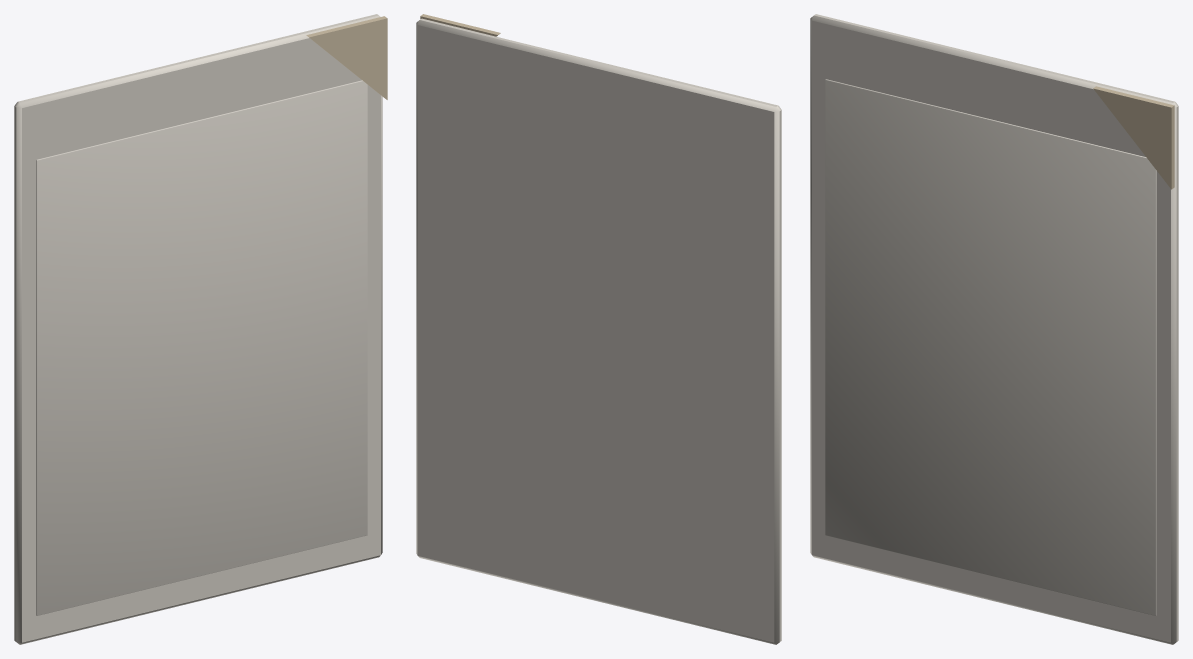
The model's file is documento.glb.
3 renders of one model, left to right at view 1: azimuth 30°, elevation 25°; view 2: azimuth 150°, elevation 25°; view 3: azimuth 330°, elevation 25°, orthographic.
Parts seen in each view (by area): view 1: documento_face, Cube, ext; view 2: Cube; view 3: documento_face, Cube, ext.
Part boxes in pixels (<box>): documento_face: <box>36,80,367,615</box>; Cube: <box>14,14,382,644</box>; ext: <box>306,16,387,99</box>; Cube: <box>416,18,781,644</box>; documento_face: <box>825,79,1156,615</box>; Cube: <box>810,14,1178,644</box>; ext: <box>1093,86,1174,189</box>.
Size of the model in its own units: 0.21 by 0.297 by 0.009.
